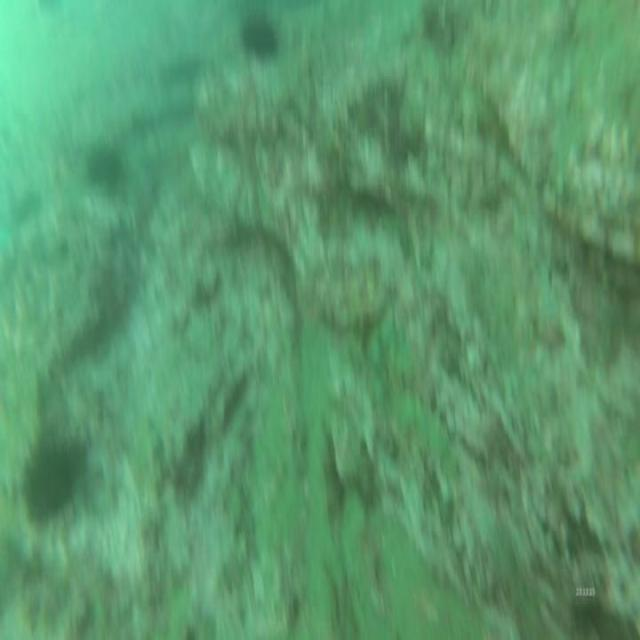echinus: (23, 431, 82, 528), (83, 136, 129, 194), (233, 8, 281, 62)
holothurian: (397, 389, 455, 477)
